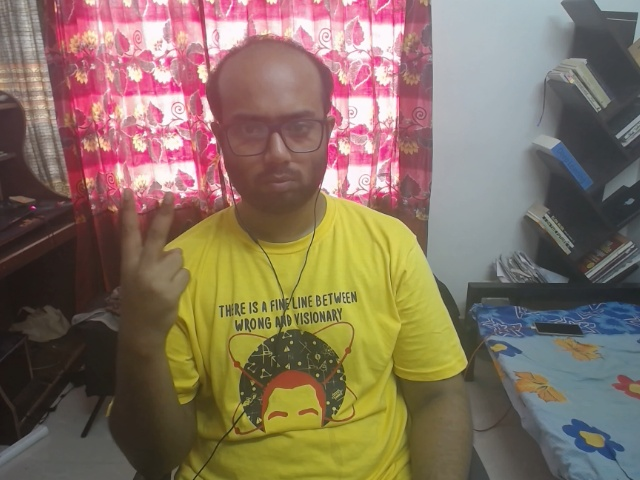two: (91, 169, 224, 343)
